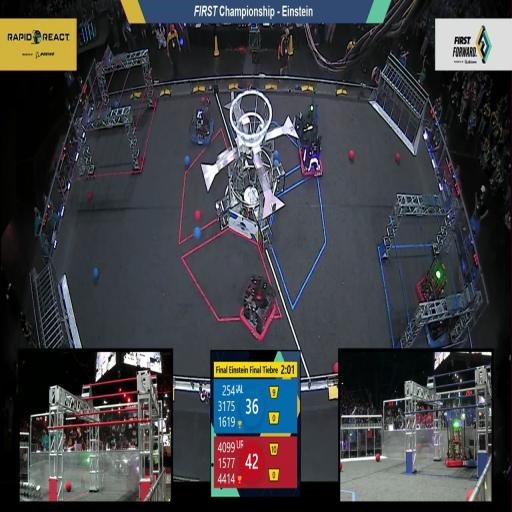robot: (240, 273, 277, 342), (441, 410, 473, 468), (417, 256, 448, 309), (190, 100, 217, 147), (298, 137, 326, 179), (293, 108, 321, 148)
